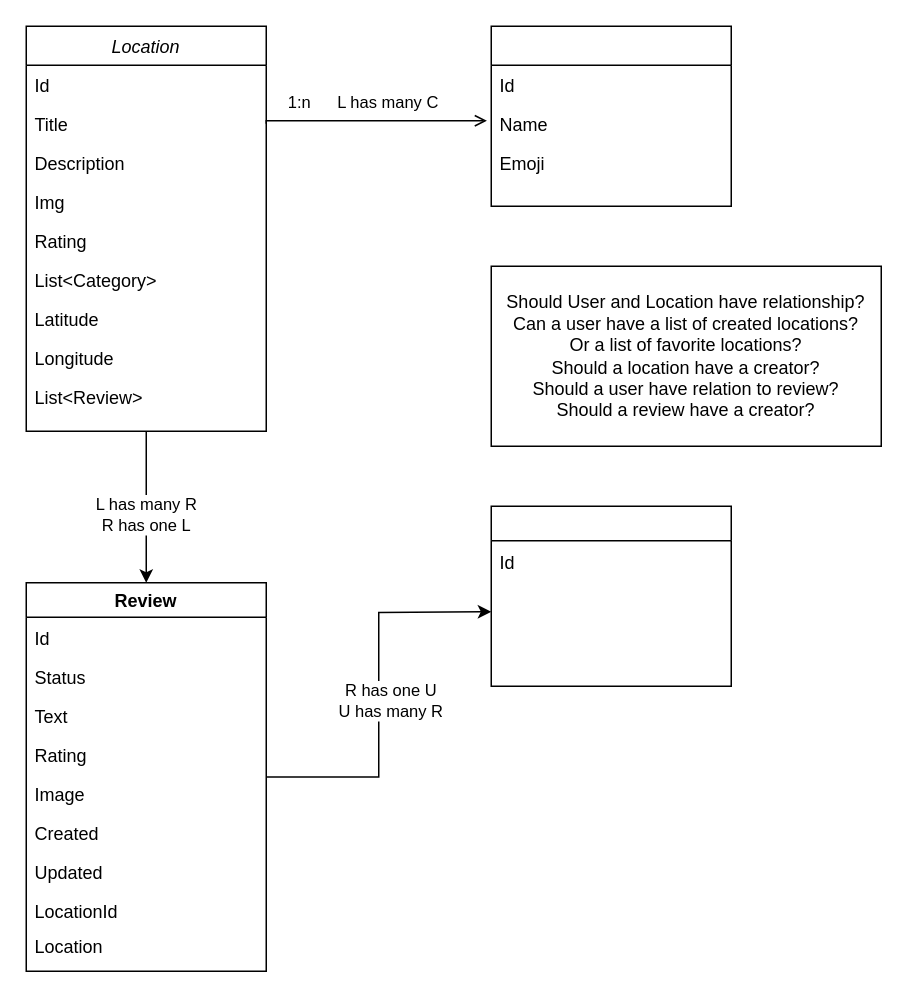
Some shapes in this 908 by 998 pixel diagram are drawn without their labels. Each missing label, with the box of its shape:
Category: (490, 25, 731, 206)
User: (490, 505, 731, 686)
